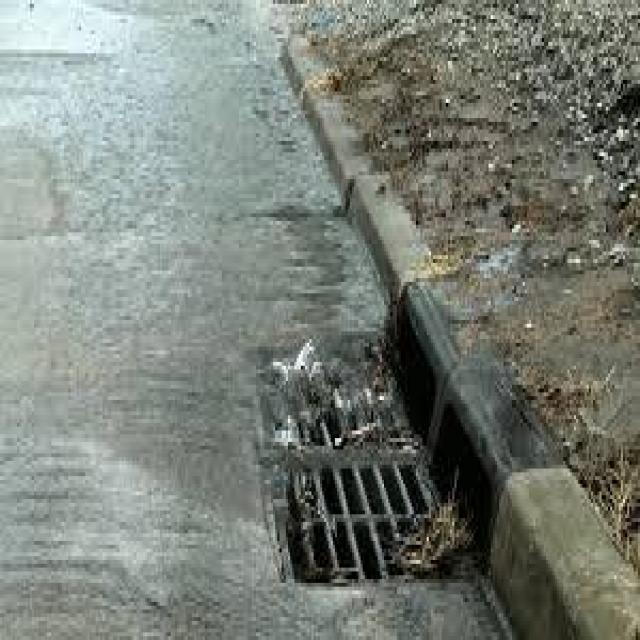curb: (385, 292, 640, 631), (270, 36, 431, 283)
